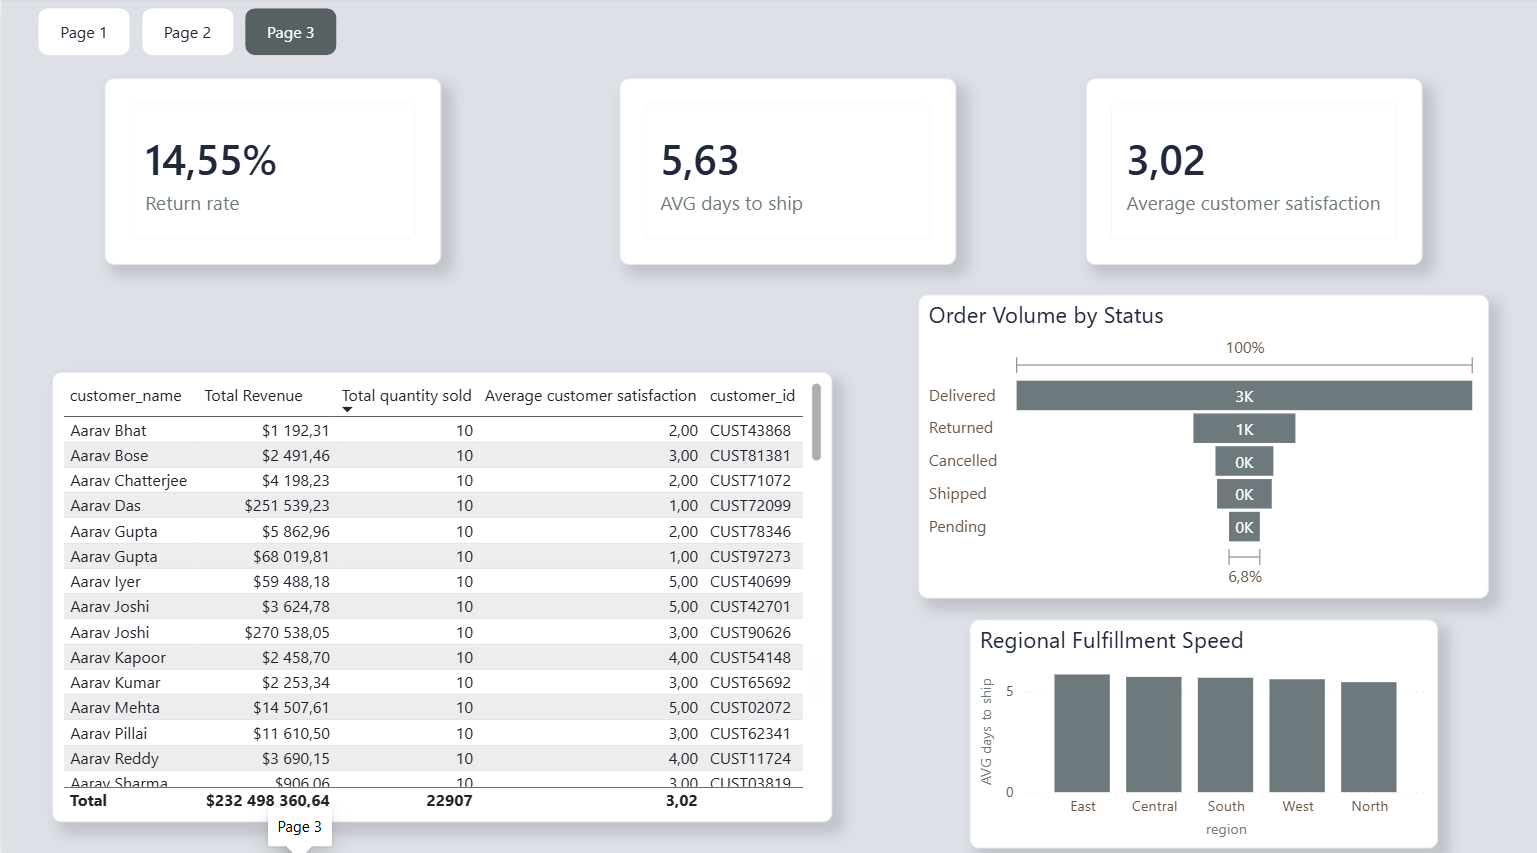

This screenshot's page, from the dashboard's own definition file:
{"tool":"powerbi","page":{"name":"Page 3","canvas":[1280,720],"ordinal":2},"visuals":[{"type":"cardVisual","fields":{"Data":["_Measures.Return rate"]},"box":[85.1,68,280,155],"z":0},{"type":"cardVisual","fields":{"Data":["_Measures.AVG days to ship"]},"box":[513.2,68,280,155.1],"z":1000},{"type":"cardVisual","fields":{"Data":["_Measures.Average customer satisfaction"]},"box":[901.5,68,280,155.1],"z":2000},{"type":"tableEx","fields":{"Values":["public retail_sales_cleaned.customer_name","_Measures.Total Revenue","_Measures.Total quantity sold","_Measures.Average customer satisfaction","public retail_sales_cleaned.customer_id"]},"box":[41.2,311.5,649.1,374.6],"z":3000},{"type":"funnel","title":"Order Volume by Status","fields":{"Category":["public retail_sales_cleaned.order_status"],"Y":["_Measures.Total orders"]},"box":[761.6,247,474.8,252.5],"z":4000},{"type":"clusteredColumnChart","title":"Regional Fulfillment Speed","fields":{"Category":["public retail_sales_cleaned.region"],"Y":["_Measures.AVG days to ship"]},"box":[804.1,517.3,389.7,190.7],"z":5000},{"type":"pageNavigator","box":[30.2,9.6,249.7,39.8],"z":5001}]}

Visuals, with their boxes in screenshot pixels (x1, y1, x2, y2), scaled from the page's 1280x720 canvas onto the 1537x853 screenshot:
cardVisual - _Measures.Return rate: left=102, top=81, right=438, bottom=264
cardVisual - _Measures.AVG days to ship: left=616, top=81, right=952, bottom=264
cardVisual - _Measures.Average customer satisfaction: left=1083, top=81, right=1419, bottom=264
tableEx - public retail_sales_cleaned.customer_name x _Measures.Total Revenue: left=49, top=369, right=829, bottom=813
"Order Volume by Status" funnel: left=915, top=293, right=1485, bottom=592
"Regional Fulfillment Speed" clusteredColumnChart: left=966, top=613, right=1433, bottom=839
pageNavigator: left=36, top=11, right=336, bottom=59
